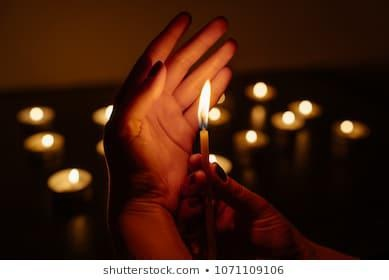fire: (195, 76, 219, 121)
